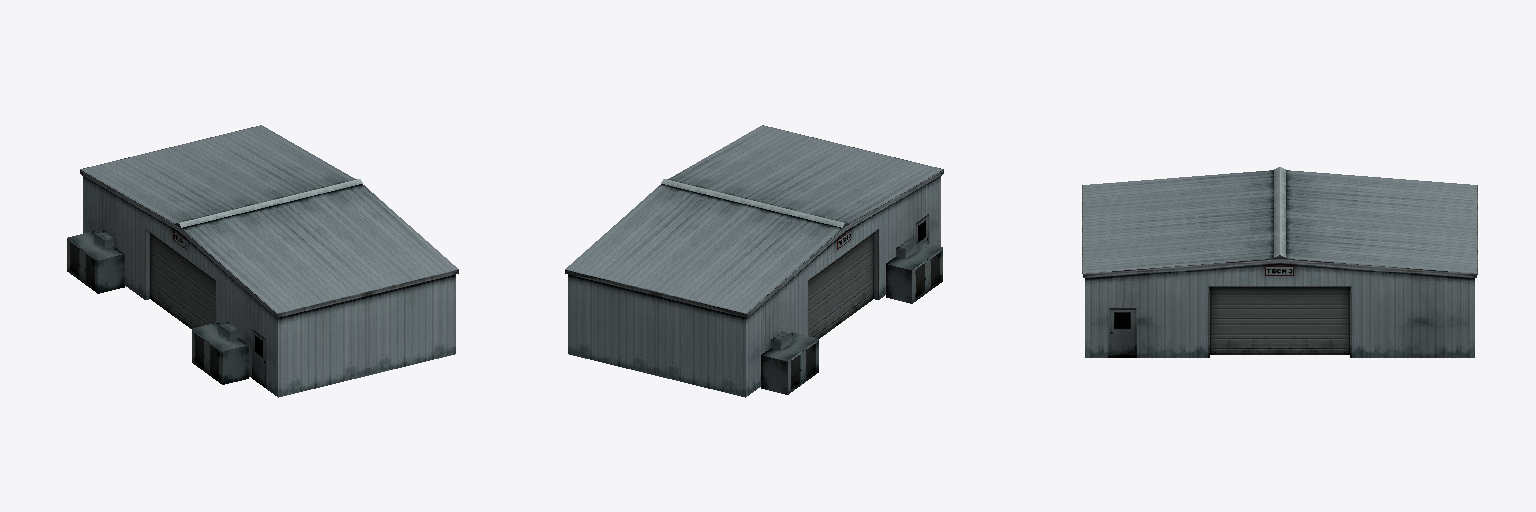
3 renders of one model, left to right at view 1: azimuth 30°, elevation 25°; view 2: azimuth 150°, elevation 25°; view 3: azimuth 270°, elevation 25°, orthographic.
Visible parts, largest first — view 1: City_building_023.001; view 2: City_building_023.001; view 3: City_building_023.001.
Boxes of the visible parts, <box> form: City_building_023.001: <box>67,125,458,397</box>; City_building_023.001: <box>565,125,943,397</box>; City_building_023.001: <box>1082,167,1477,357</box>.
Size of the model in its own units: 2.02 by 0.9581 by 3.32.
1 materials, 1 textured.